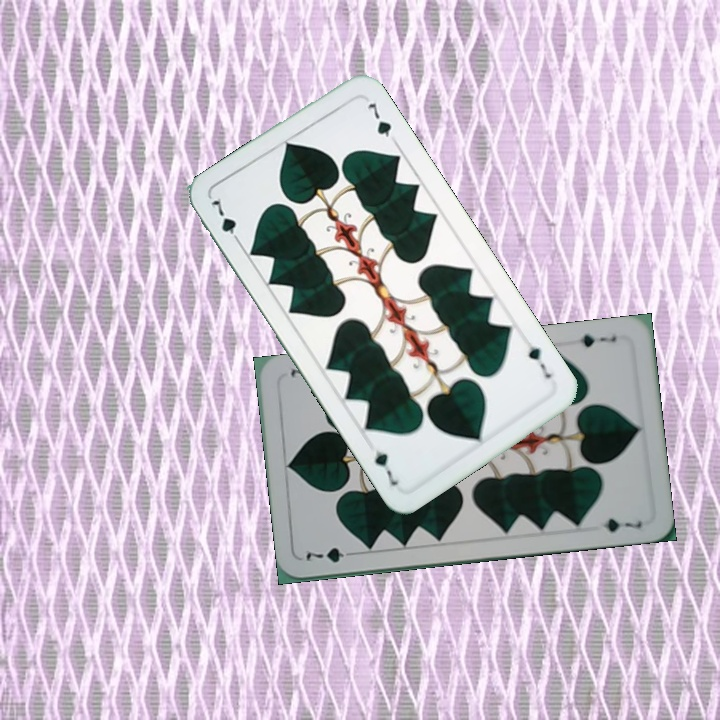G7: (207, 193, 244, 248), (300, 543, 360, 566), (524, 341, 554, 381), (568, 330, 619, 350)
